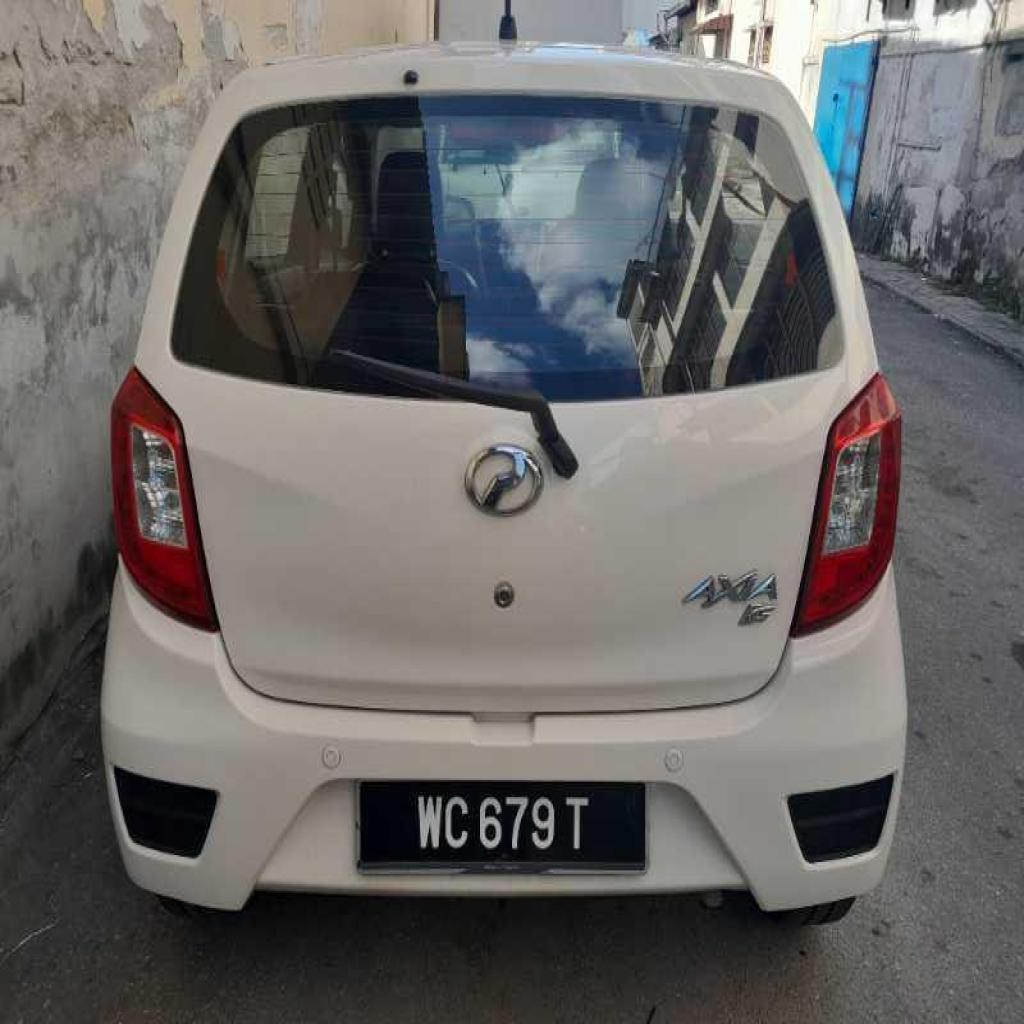car: (104, 43, 905, 918)
car plate: (358, 782, 644, 867)
